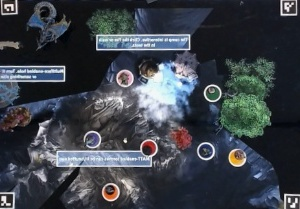blue: (196, 139, 217, 162)
green: (202, 82, 223, 103)
orange: (101, 182, 123, 202)
pink: (116, 68, 136, 88)
red: (138, 137, 160, 156)
violet: (82, 130, 103, 151)
yellow: (226, 147, 248, 168)
